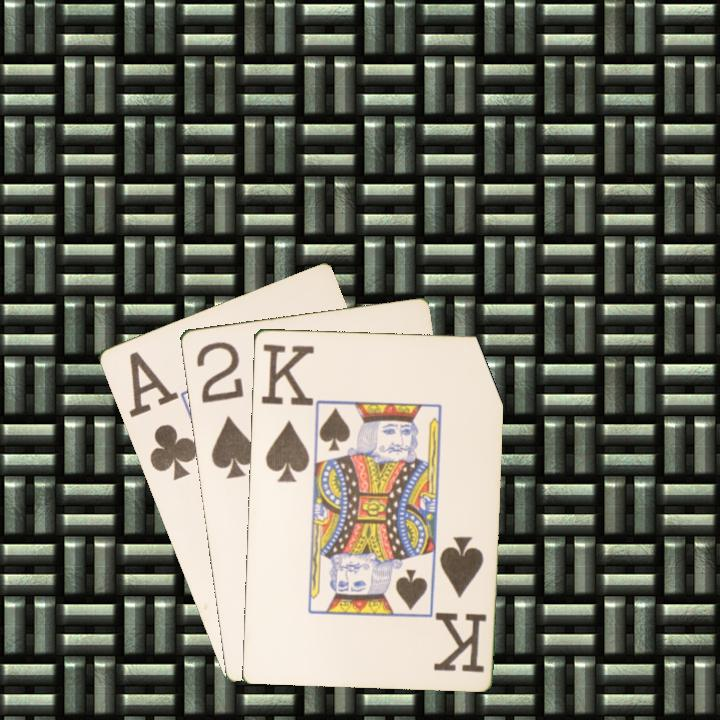2s: (192, 337, 258, 481)
Ac: (124, 347, 200, 483)
Ks: (257, 339, 315, 485), (431, 532, 489, 675)
